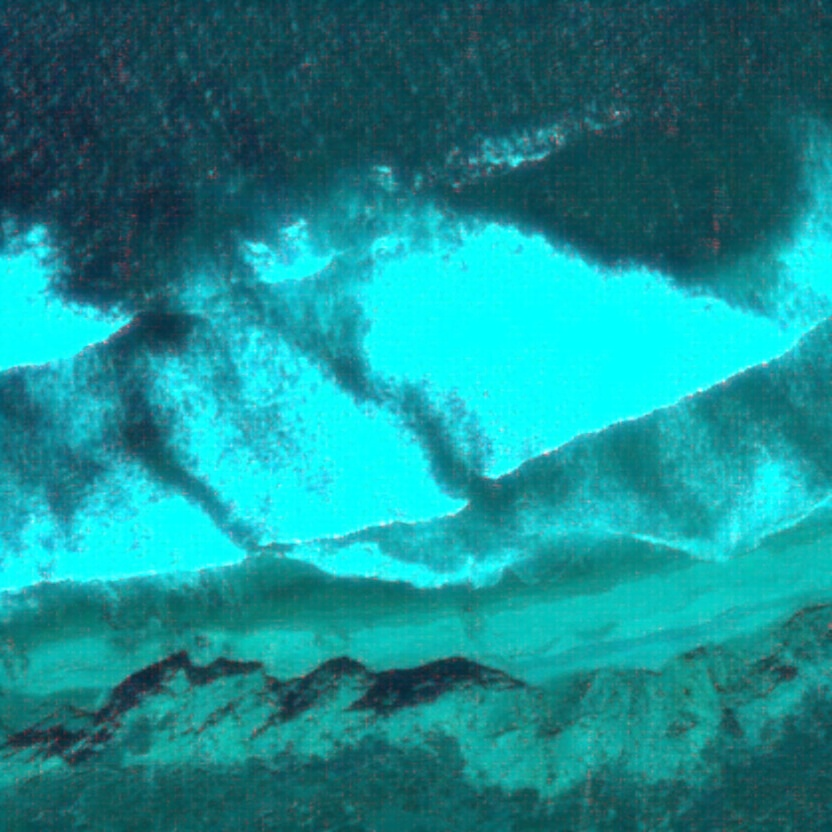rip_current: (228, 242, 497, 500)
